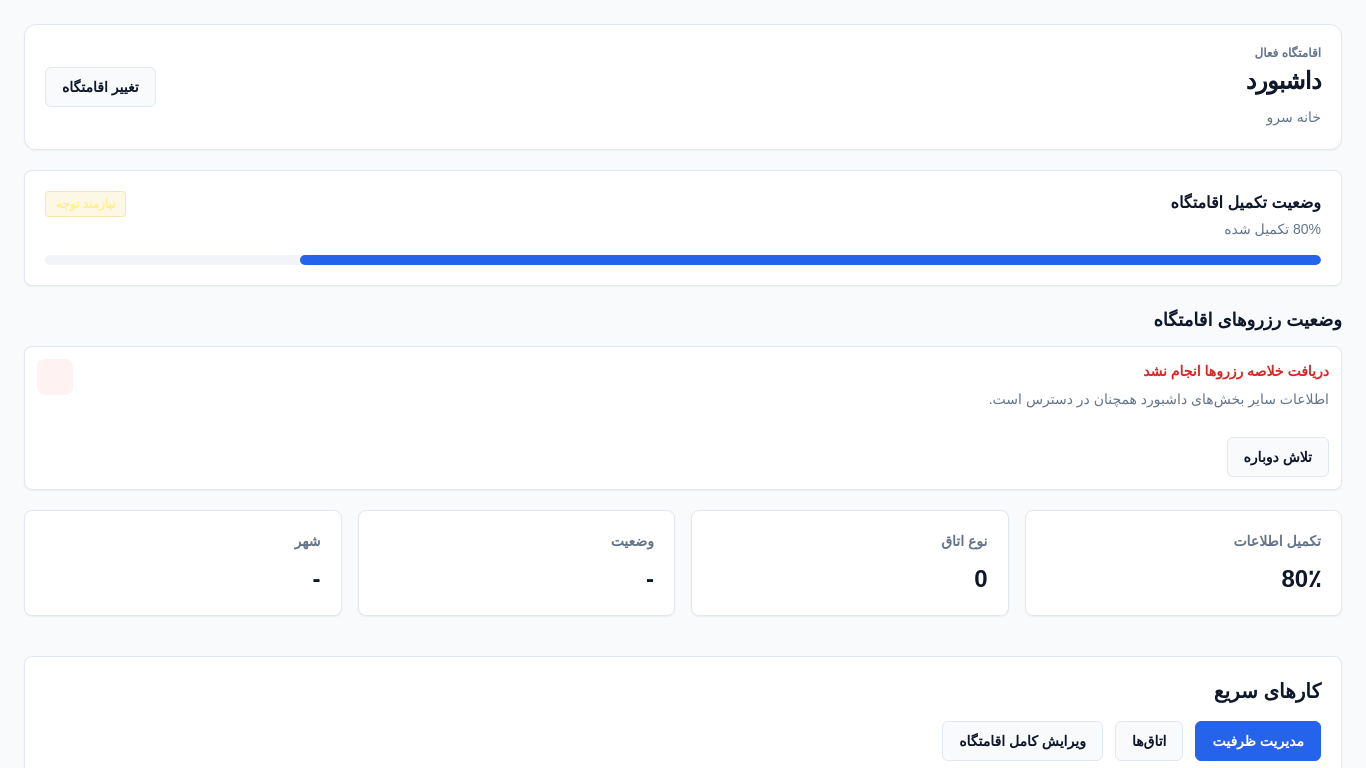
Test: Owner Property operational dashboard summary › isolates a summary error and retries without affecting setup widgets
Expected: the message is shown, x1=24 y1=346 x2=1342 y2=490
Expected: the heading "وضعیت تکمیل اقامتگاه" is shown, x1=1171 y1=191 x2=1321 y2=215
Click the button "تلاش دوباره" at [1278, 457], box x1=1226 y1=437 x2=1329 y2=477
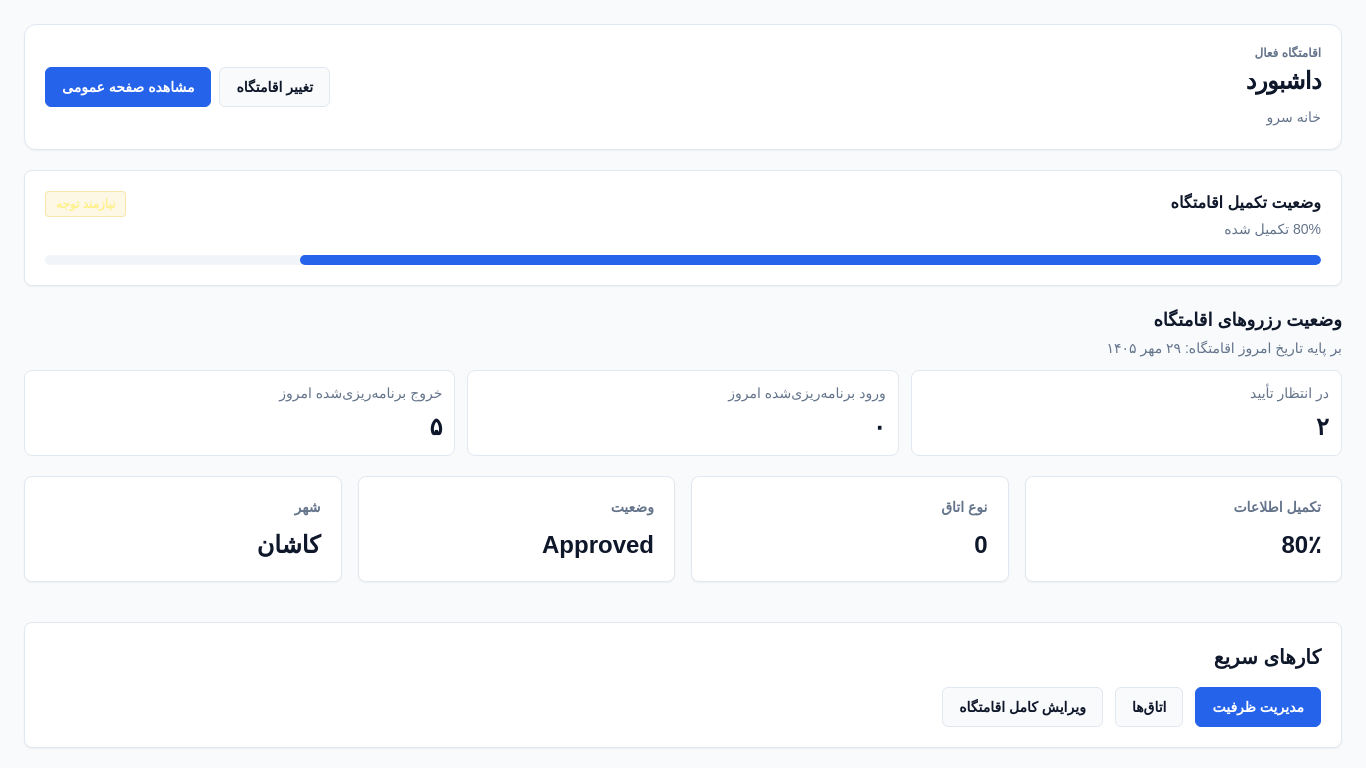
Expected: the text "۵" is shown, x1=430 y1=413 x2=442 y2=440
